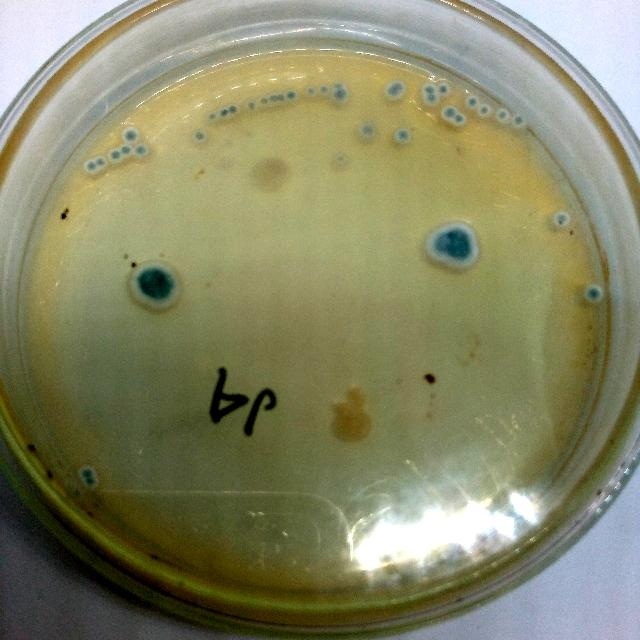colony: (127, 261, 181, 317), (328, 402, 374, 446), (252, 157, 292, 197), (444, 240, 482, 274), (420, 227, 448, 261), (446, 220, 476, 246), (120, 124, 142, 146), (582, 283, 604, 305), (551, 210, 571, 230), (358, 121, 377, 141), (130, 141, 150, 159), (475, 101, 493, 121), (393, 127, 412, 145), (464, 92, 482, 111), (494, 106, 512, 125), (82, 476, 102, 492), (76, 463, 95, 479), (510, 112, 526, 130), (440, 105, 458, 121), (390, 78, 408, 94), (383, 85, 399, 102), (82, 158, 98, 174), (118, 142, 134, 158), (190, 128, 206, 144), (332, 88, 348, 104), (452, 112, 468, 128), (422, 94, 440, 108), (92, 156, 108, 170), (107, 148, 123, 162), (436, 82, 450, 98), (421, 82, 437, 95), (284, 88, 298, 102), (258, 94, 270, 108), (275, 92, 287, 106), (318, 83, 330, 97), (268, 92, 280, 105), (226, 103, 238, 115), (245, 100, 257, 112), (218, 107, 230, 117), (306, 86, 316, 98), (337, 153, 347, 165), (332, 80, 344, 90), (208, 111, 218, 121)
